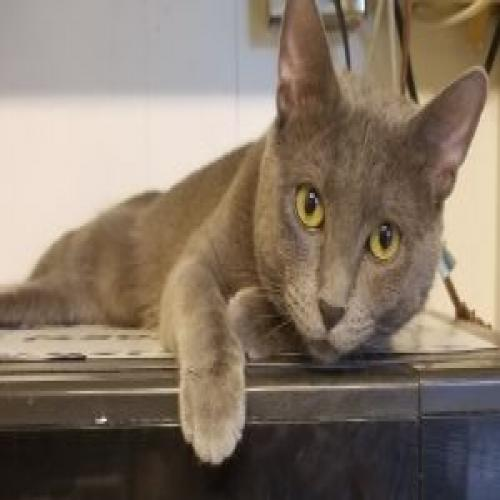rblue: (252, 1, 491, 386)
